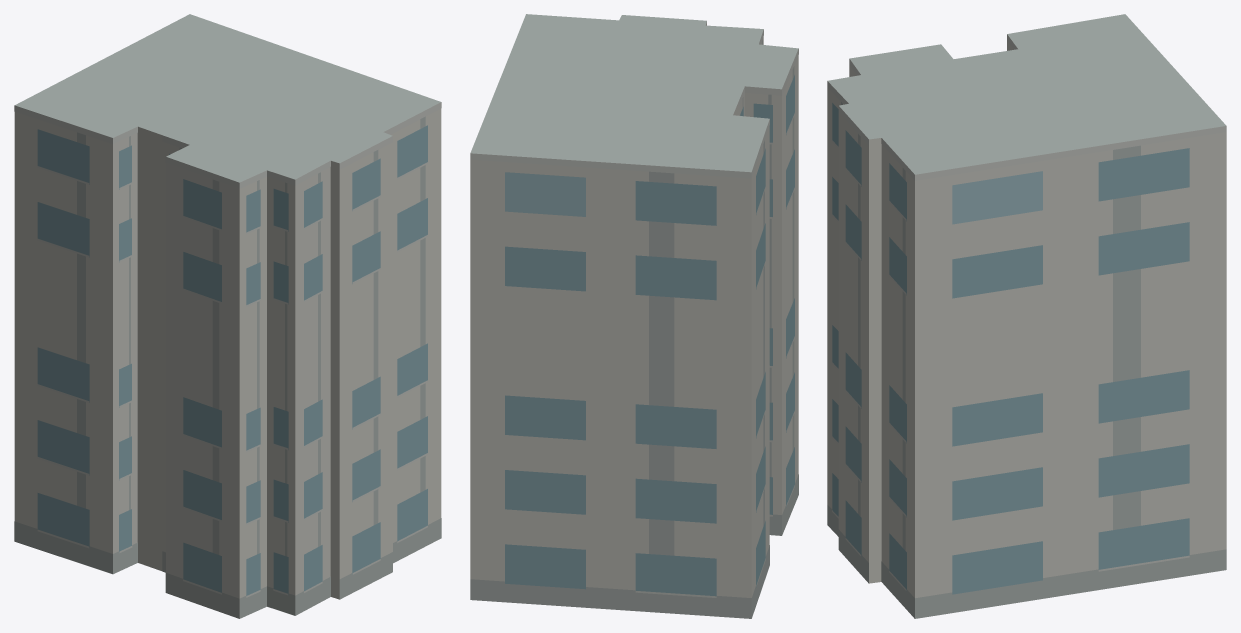
Rendered from survey-upis-32975418.glb.
3 views of the same model, side by side, from view 1: azimuth 30°, elevation 25°; view 2: azimuth 150°, elevation 25°; view 3: azimuth 270°, elevation 25° (orthographic). The views are drawn at different scales.
Parts seen in each view (by area): view 1: survey-upis-32975418.tmp; view 2: survey-upis-32975418.tmp; view 3: survey-upis-32975418.tmp.
Part boxes in pixels (left/top/right/bottom): survey-upis-32975418.tmp: left=14, top=14, right=441, bottom=618; survey-upis-32975418.tmp: left=470, top=14, right=798, bottom=618; survey-upis-32975418.tmp: left=827, top=14, right=1226, bottom=618.
Size of the model in its own units: 13.36 by 17.2 by 14.02.
